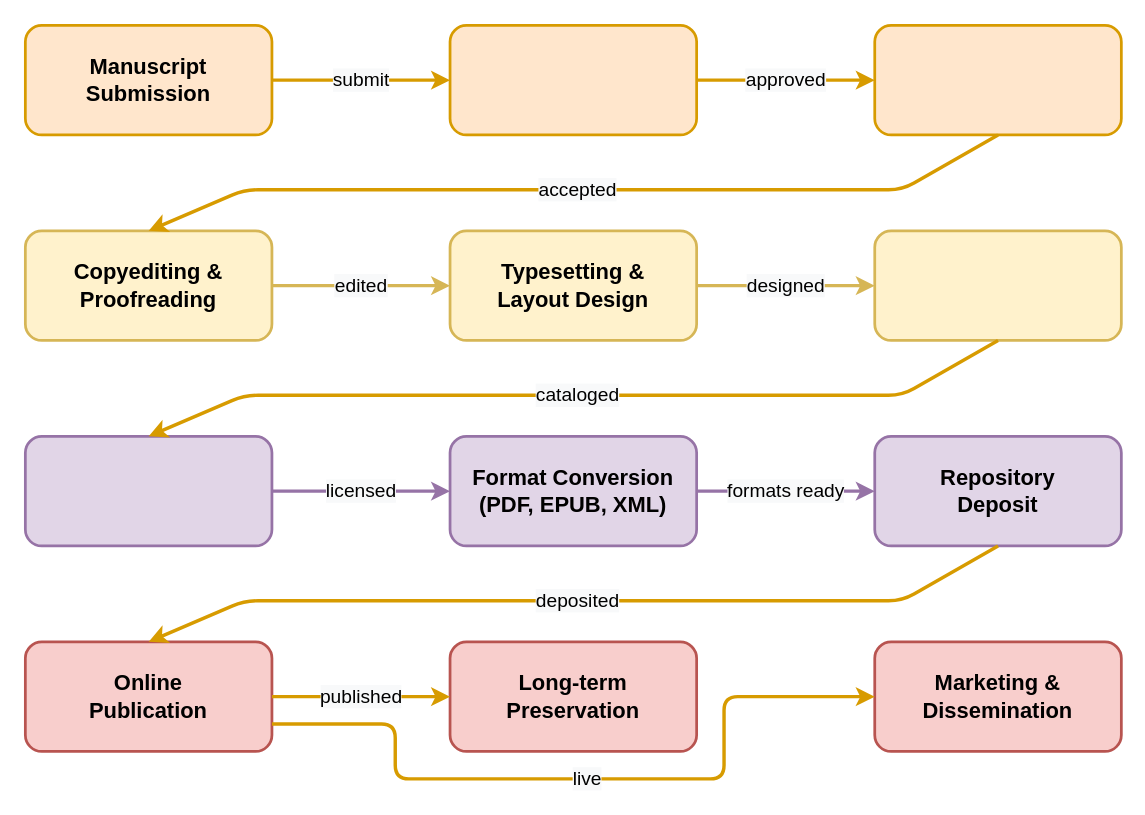
Image size: 1145x815. Some labels were removed from this diagram. Here are the shapes that lost their labels. From the top down, the centre of each, then its label:
At point (572, 79): "Peer Review & Revisions".
At point (997, 79): "Editorial Acceptance".
At point (997, 285): "Metadata Preparation".
At point (148, 490): "License Assignment (CC)".
